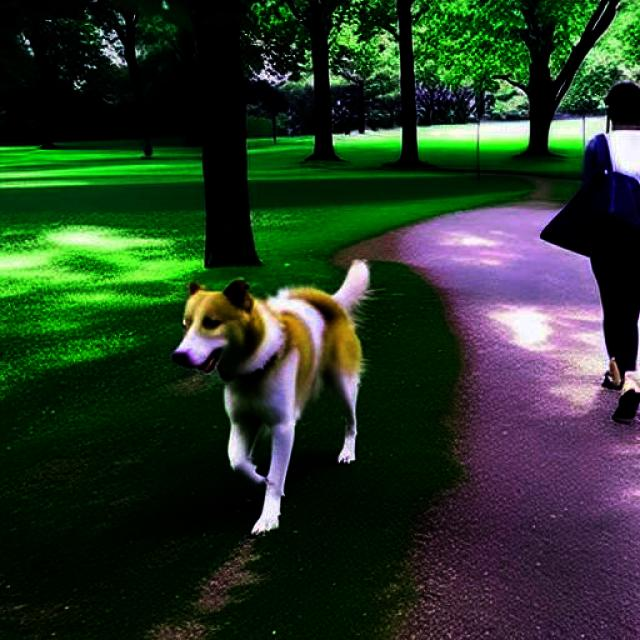Unleashed_Dog: (170, 186, 638, 536)
